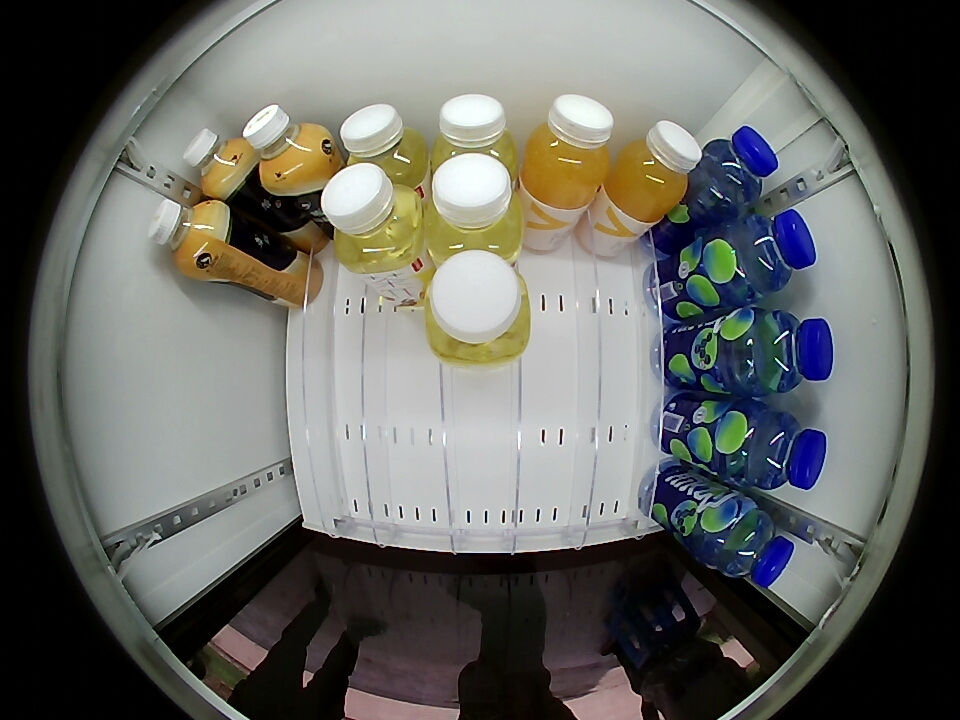asamu: (243, 104, 329, 184), (148, 197, 226, 273), (183, 129, 251, 196)
chapai2: (424, 250, 532, 367), (322, 163, 424, 273), (426, 152, 523, 266), (340, 104, 429, 187), (432, 94, 517, 176)
maidong: (711, 209, 818, 302), (725, 407, 828, 492), (740, 310, 834, 393), (704, 503, 796, 587), (695, 126, 779, 213)
weic: (520, 94, 615, 210), (605, 121, 703, 223)
